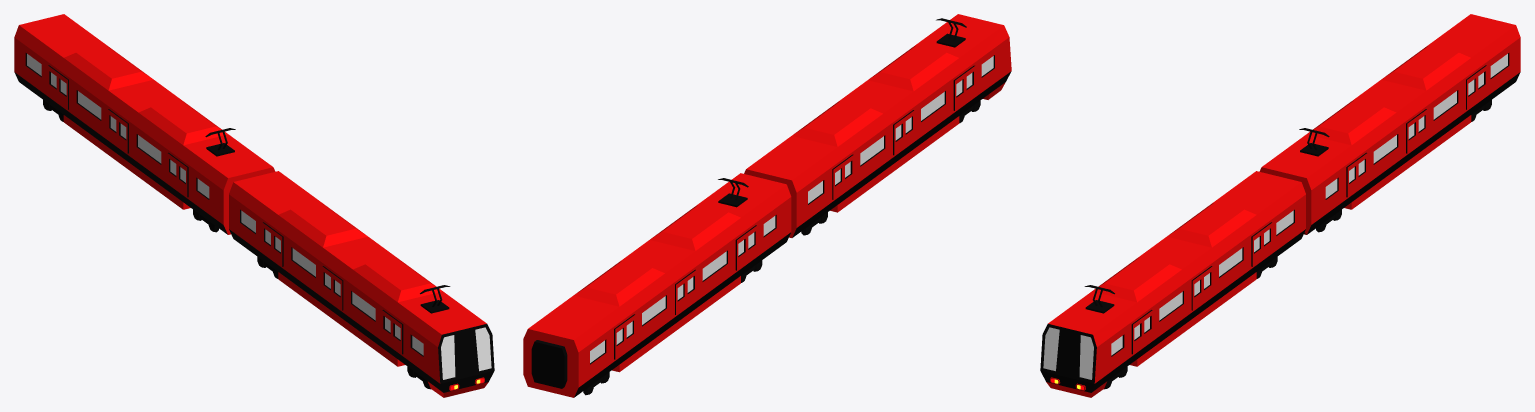
Rendered from YS_Train.glb.
3 renders of one model, left to right at view 1: azimuth 30°, elevation 25°; view 2: azimuth 150°, elevation 25°; view 3: azimuth 330°, elevation 25°, orthographic.
Visible parts, largest first — view 1: Coach1, Coach2; view 2: Coach2, Coach1; view 3: Coach1, Coach2.
Boxes of the visible parts, bbox=[...] form: Coach1: bbox=[229, 171, 494, 397]; Coach2: bbox=[14, 14, 275, 234]; Coach2: bbox=[523, 173, 791, 397]; Coach1: bbox=[744, 14, 1011, 237]; Coach1: bbox=[1040, 171, 1305, 397]; Coach2: bbox=[1259, 14, 1520, 234].
Bounding box in the file's own units: 6.27 × 9.59 × 81.92.
